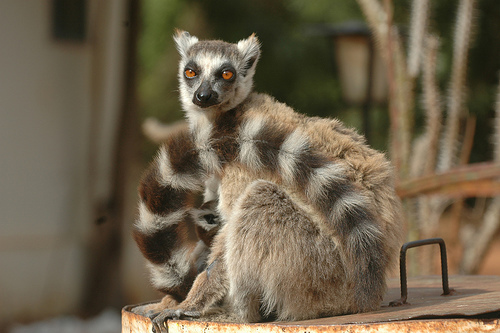cat: (132, 27, 407, 332)
